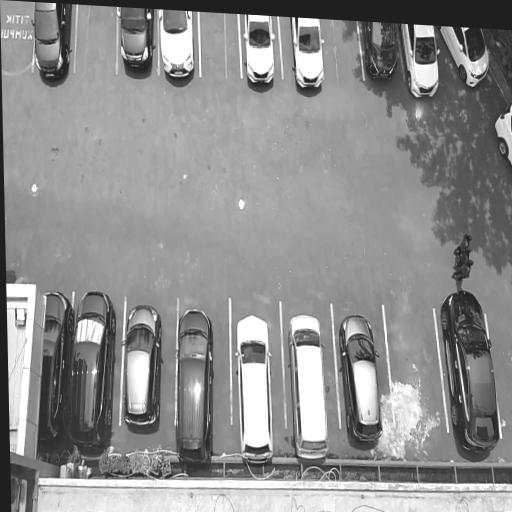Car: (439, 292, 504, 464), (69, 294, 112, 457), (335, 311, 384, 453), (229, 317, 273, 473), (286, 314, 329, 473), (115, 307, 165, 439), (170, 313, 212, 470), (36, 292, 68, 457), (26, 2, 70, 91), (399, 25, 442, 106), (286, 20, 327, 102), (441, 27, 489, 93), (155, 11, 195, 90), (239, 17, 275, 100), (114, 7, 153, 80), (360, 26, 397, 90), (492, 99, 512, 174)
Space Available: (387, 304, 436, 442), (74, 9, 118, 77), (197, 14, 235, 89), (0, 0, 34, 75), (330, 21, 358, 101)
